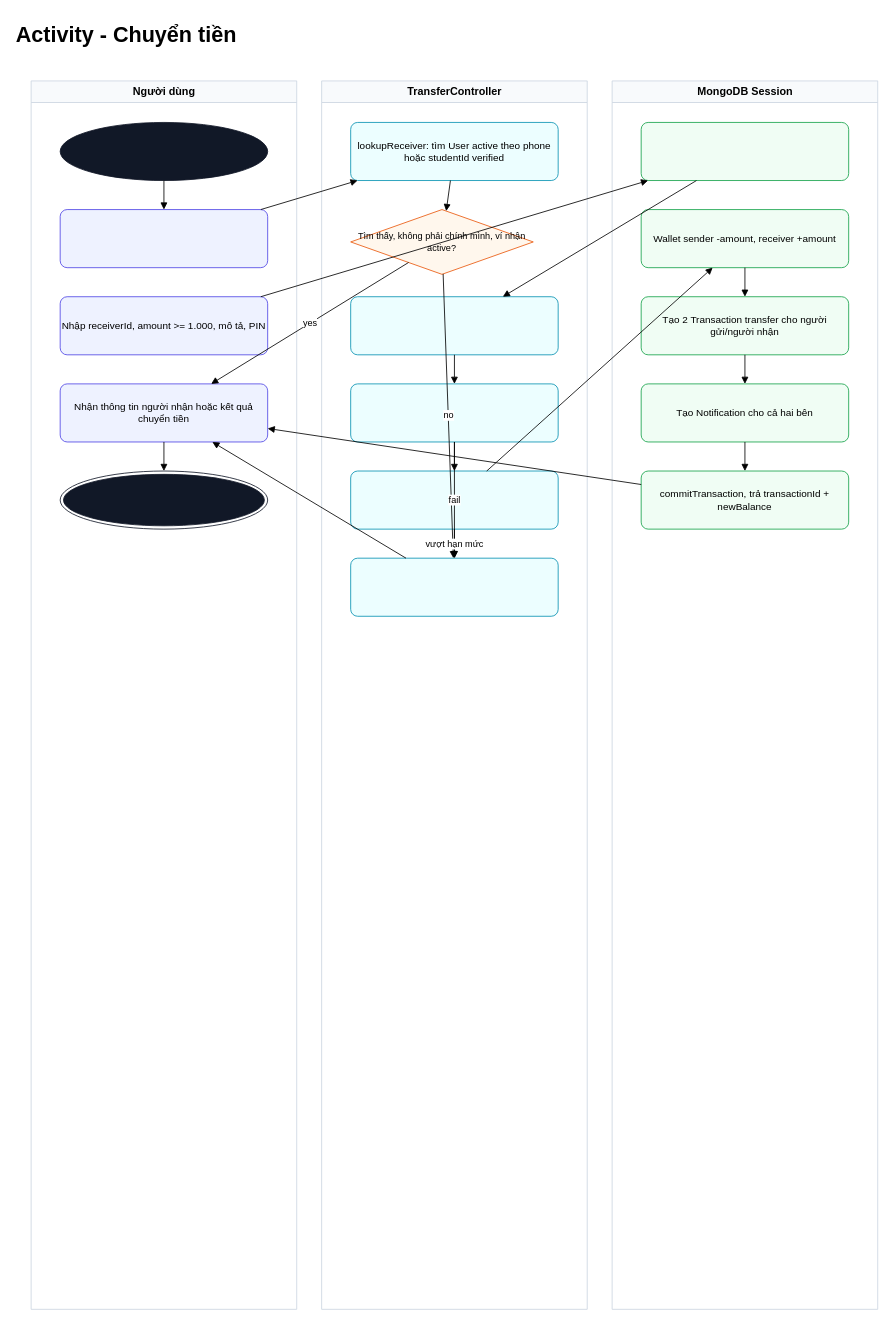
Some shapes in this 892 by 1324 pixel diagram are drawn without their labels. The shapes that lost their labels are listed below. From the top down, each one's centre as x and y in pixels, then its label:
At (744,151): "startSession + startTransaction".
At (163,238): "Nhập SĐT hoặc MSSV người nhận".
At (454,325): "transfer: validate receiverId/amount/PIN, không tự chuyển".
At (454,412): "Kiểm tra senderWallet active, có PIN, PIN đúng, đủ số dư, receiverWallet active".
At (454,499): "Kiểm tra hạn mức giao dịch ngày 50M".
At (454,586): "Sai điều kiện: abortTransaction, trả 400/401/403/404".
